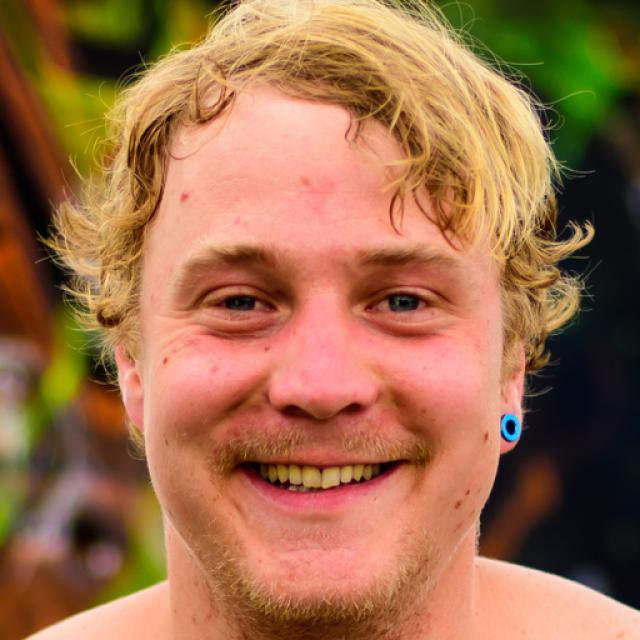Acne: (154, 351, 176, 374), (173, 185, 195, 203), (476, 427, 494, 445)
